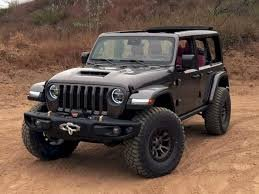mobil: (23, 27, 233, 171)
